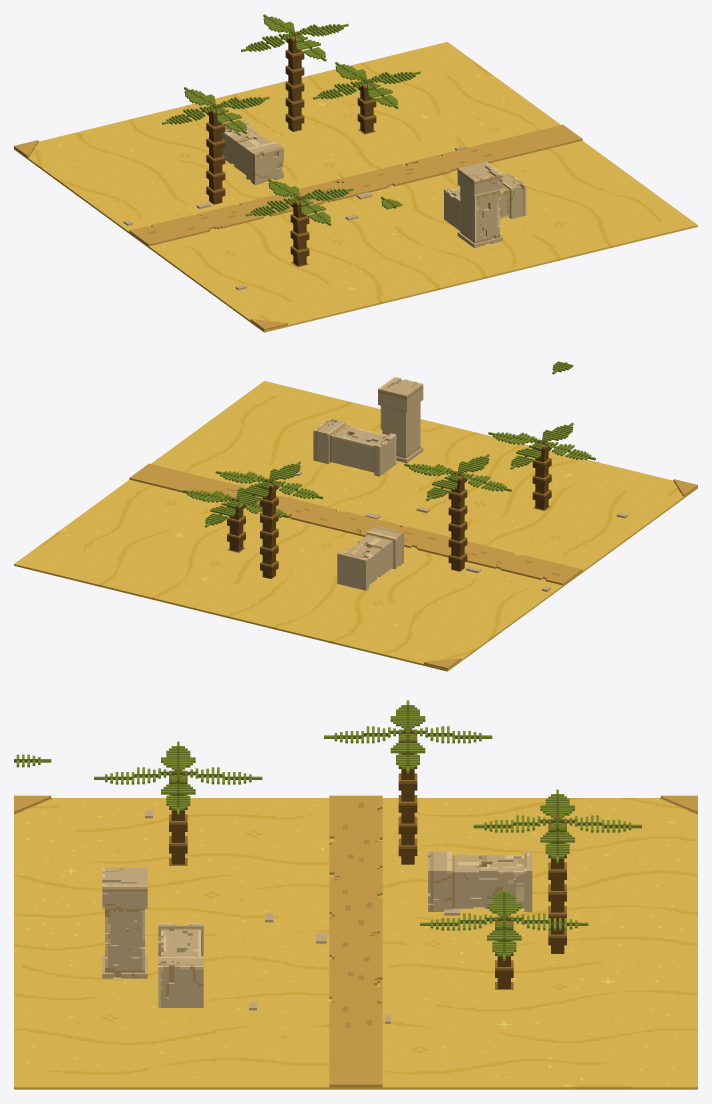
File: shadow-4.obj
3 renders of one model, top to bottom at view 1: azimuth 30°, elevation 25°; view 2: azimuth 150°, elevation 25°; view 3: azimuth 270°, elevation 25°, orthographic. The views are drawn at different scales.
Bounding box in the file's own units: 25.6 × 5.5 × 25.6.
1 material, 1 textured.
